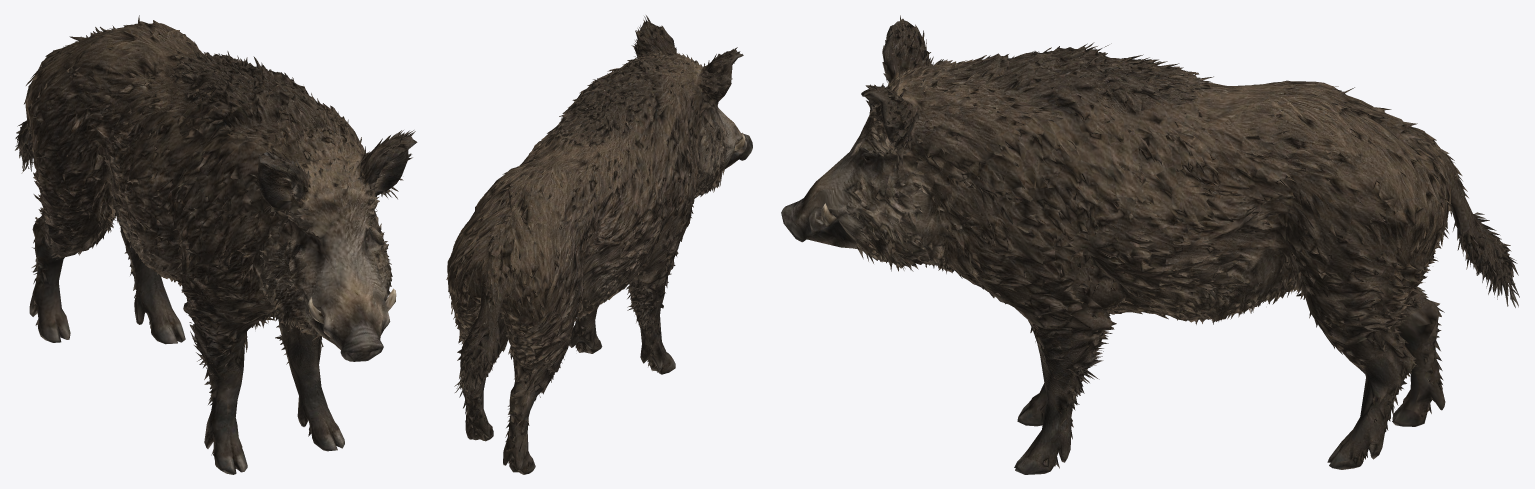
The model's file is boar__wildboar3d-conta.glb.
3 views of the same model, side by side, from view 1: azimuth 30°, elevation 25°; view 2: azimuth 150°, elevation 25°; view 3: azimuth 270°, elevation 25° (orthographic). The views are drawn at different scales.
Size of the model in its own units: 0.5182 by 1.11 by 1.9.
Materials: 1 (1 with a texture image).
